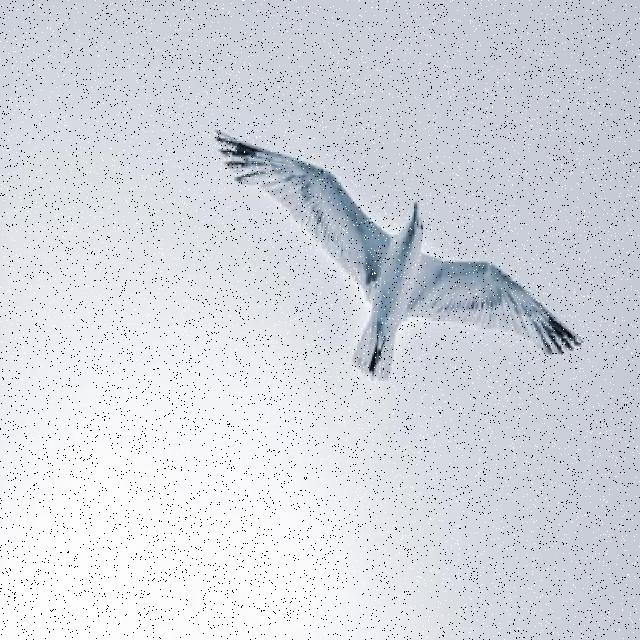bird: (213, 126, 584, 382)
